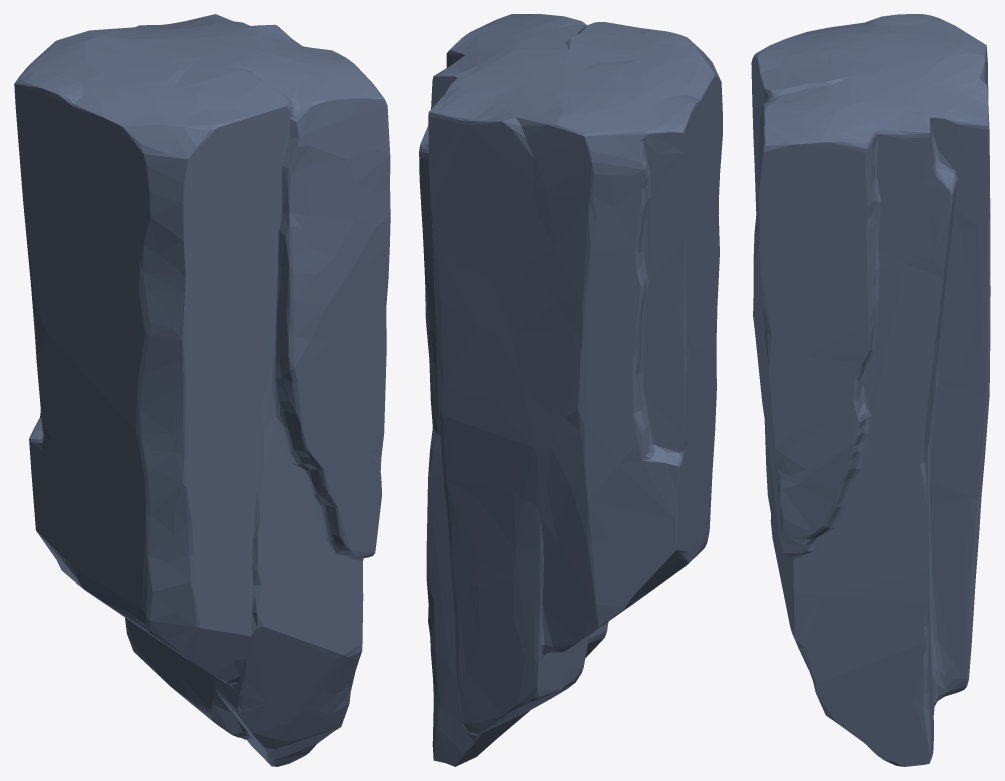
3 views of the same model, side by side, from view 1: azimuth 30°, elevation 25°; view 2: azimuth 150°, elevation 25°; view 3: azimuth 270°, elevation 25° (orthographic). The views are drawn at different scales.
Parts seen in each view (by area): view 1: SM_GF_Cliff_Detail_01_LOD0; view 2: SM_GF_Cliff_Detail_01_LOD0; view 3: SM_GF_Cliff_Detail_01_LOD0.
Part boxes in pixels (x1=…): SM_GF_Cliff_Detail_01_LOD0: x1=14, y1=14, x2=390, y2=766; SM_GF_Cliff_Detail_01_LOD0: x1=419, y1=14, x2=722, y2=766; SM_GF_Cliff_Detail_01_LOD0: x1=751, y1=14, x2=990, y2=766.
Bounding box in the file's own units: 5.78 × 14.25 × 4.75.
